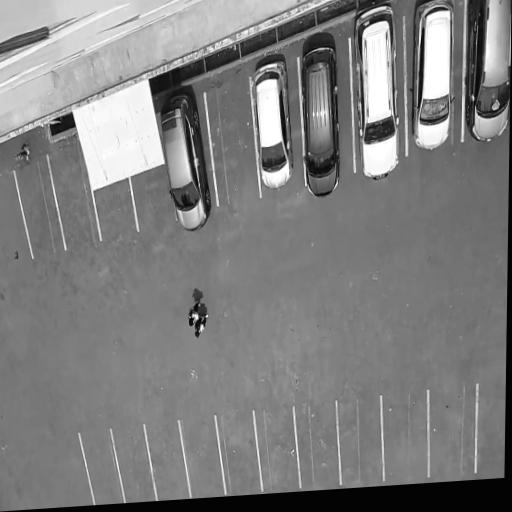Car: (351, 0, 400, 185), (156, 86, 213, 240), (411, 0, 456, 160), (463, 0, 511, 144), (247, 52, 294, 198), (300, 39, 341, 201)
Space Available: (206, 78, 260, 206), (48, 145, 101, 249), (14, 155, 66, 258), (429, 385, 477, 477), (383, 391, 428, 481), (337, 397, 383, 484), (294, 400, 339, 487), (255, 406, 300, 490), (144, 421, 190, 501), (179, 417, 225, 496), (216, 412, 261, 492), (79, 428, 125, 505), (112, 426, 156, 503), (131, 165, 176, 230), (93, 178, 137, 240), (476, 383, 506, 472)
